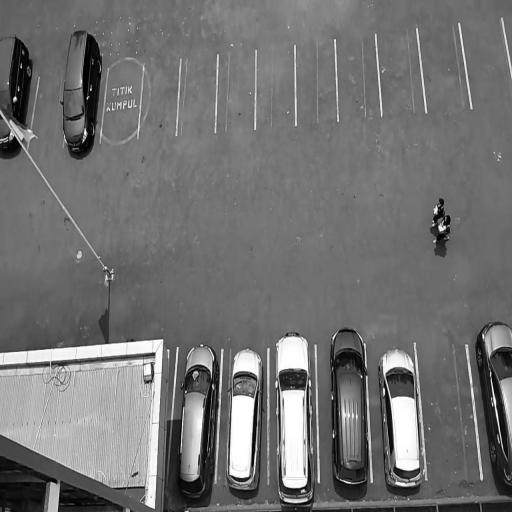Car: (272, 329, 314, 512), (327, 324, 373, 490), (173, 343, 220, 501), (377, 346, 426, 490), (472, 316, 512, 492), (224, 344, 264, 492), (61, 30, 104, 159), (0, 34, 35, 156)
Space Available: (417, 342, 480, 478), (460, 18, 512, 108), (418, 23, 471, 111), (377, 29, 425, 114), (337, 34, 380, 120), (296, 39, 337, 127), (100, 65, 143, 142), (178, 53, 217, 137), (138, 60, 180, 137), (256, 46, 295, 127), (217, 50, 255, 133), (28, 73, 65, 148)
